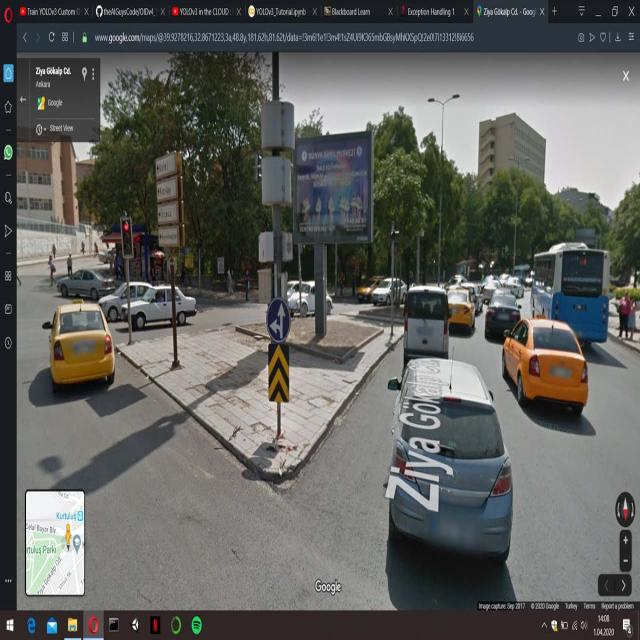ilerisol: (266, 298, 291, 341)
kirmizi: (120, 219, 134, 257)
